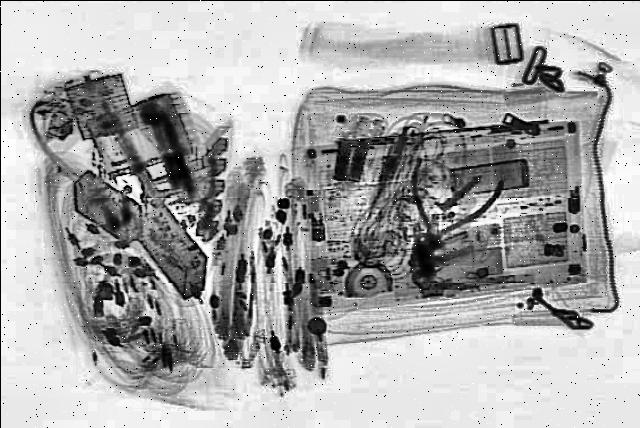Pliers: (376, 158, 510, 270)
